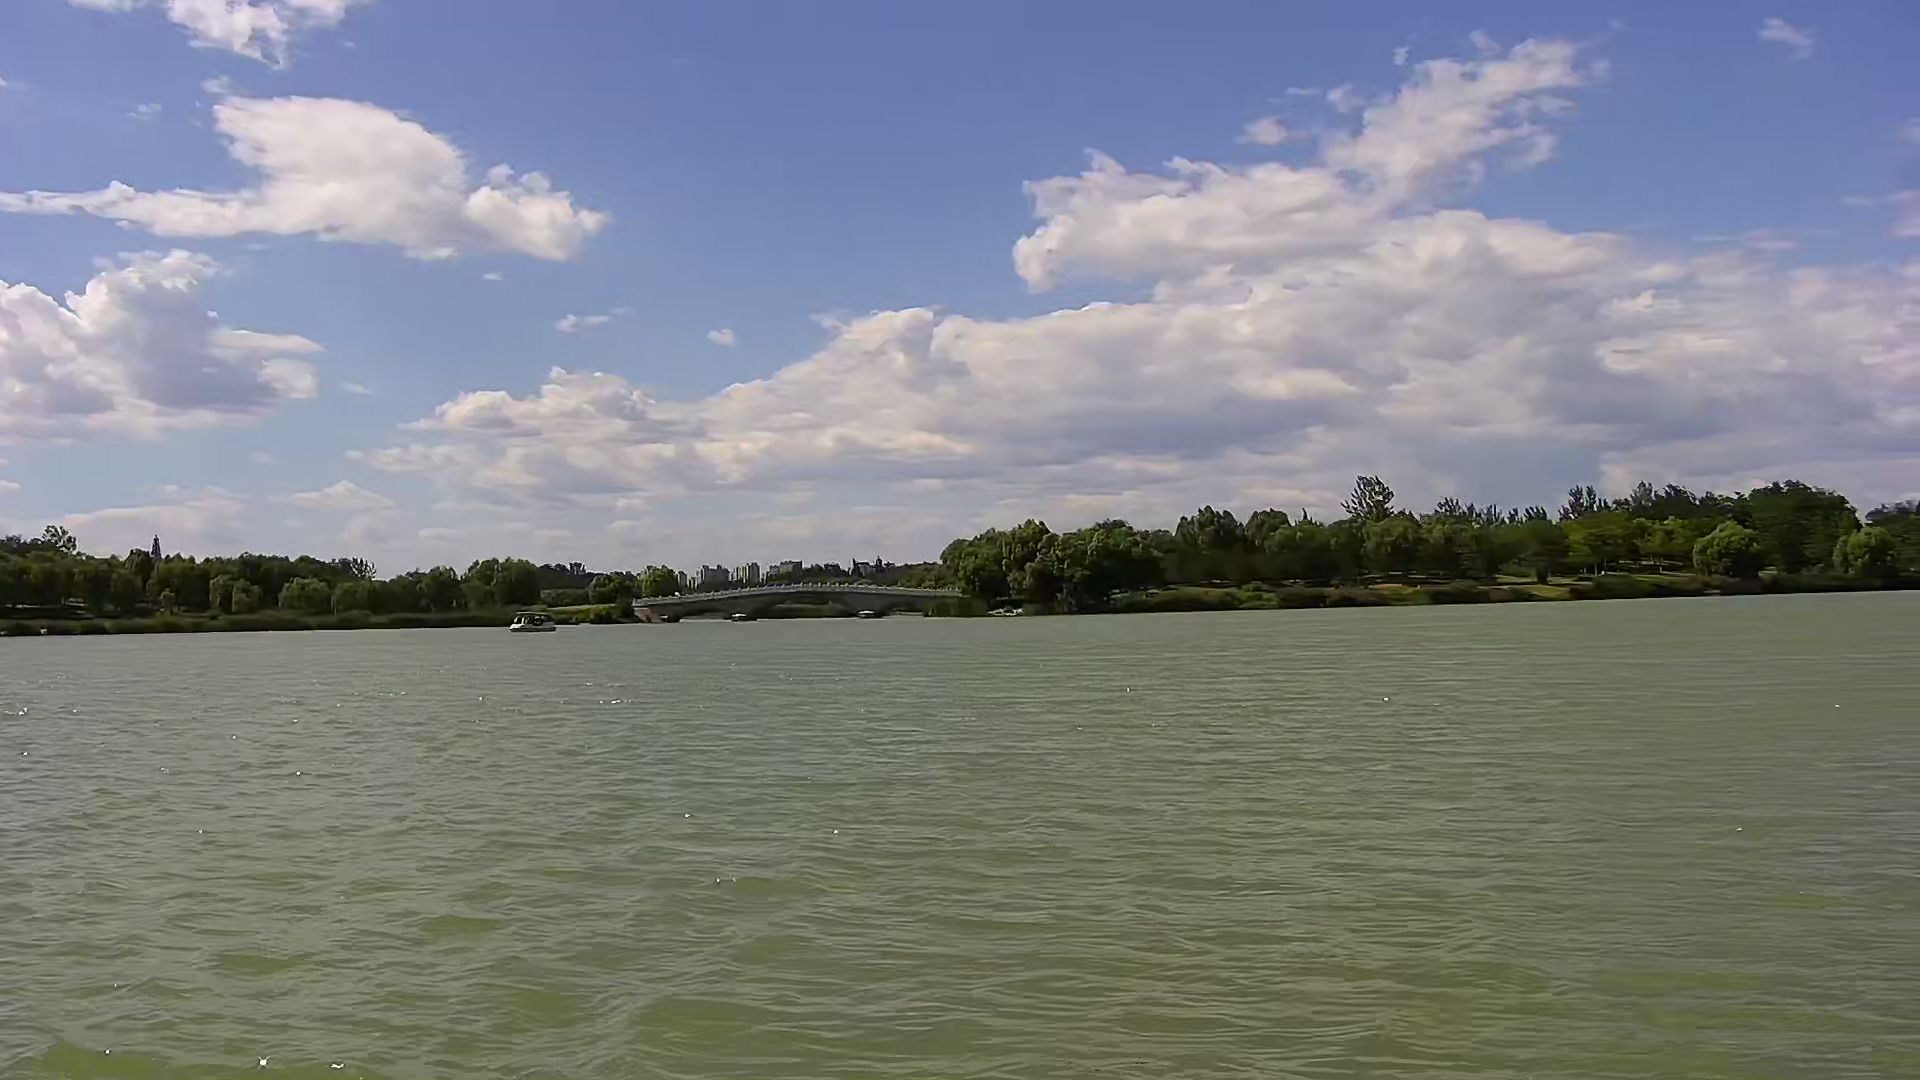boat: (505, 608, 554, 634)
bridge: (633, 584, 957, 617)
